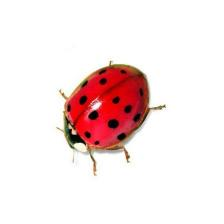red: (72, 70, 146, 140)
